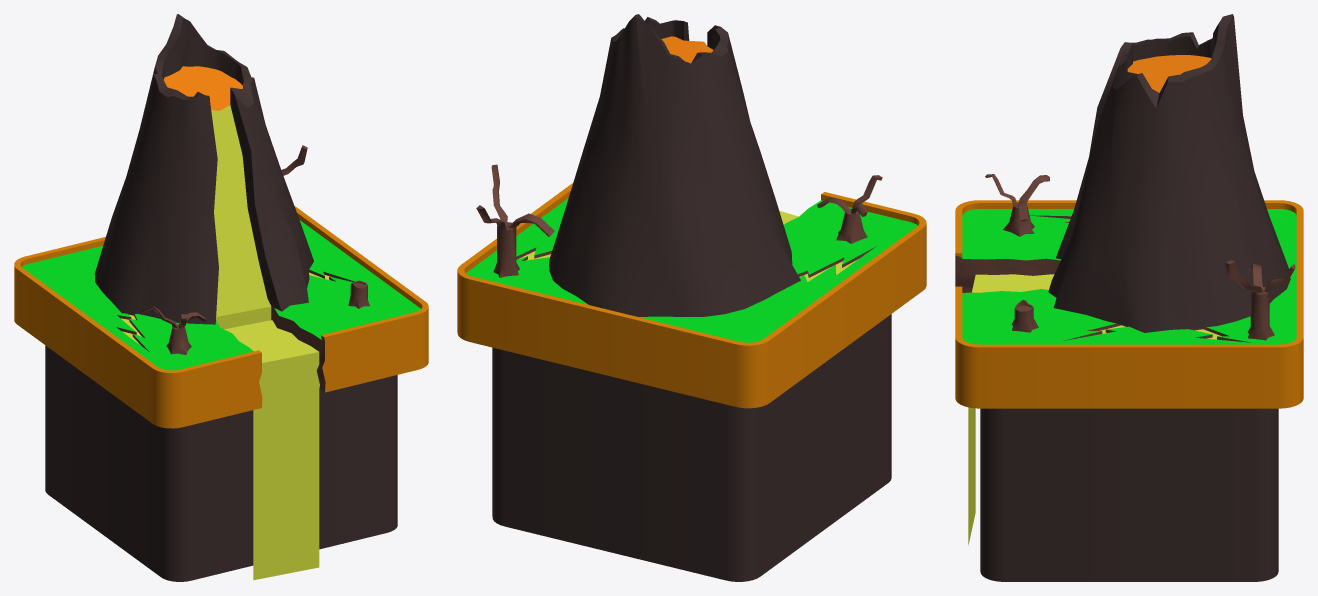
File: Vulkan.fbx
3 views of the same model, side by side, from view 1: azimuth 30°, elevation 25°; view 2: azimuth 150°, elevation 25°; view 3: azimuth 270°, elevation 25° (orthographic). The views are drawn at different scales.
Parts seen in each view (by area): view 1: Куб; view 2: Куб; view 3: Куб.
Part boxes in pixels (x1,y1,x2,y2): Куб: (14,14,428,581); Куб: (457,14,926,581); Куб: (955,14,1303,581).
Bounding box in the file's own units: 401 × 661 × 401.
